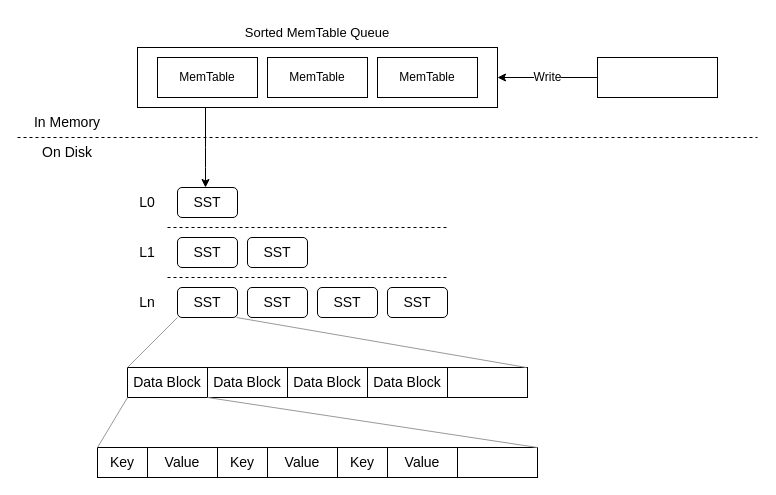
Some shapes in this 776 by 495 pixel diagram are drawn without their labels. The box of each missing label's shape, as (x1, y1, x2, y2) in pixels:
Checksum: (456, 446, 538, 478)
Index Block: (446, 366, 528, 398)
Key + Value: (596, 56, 718, 98)
